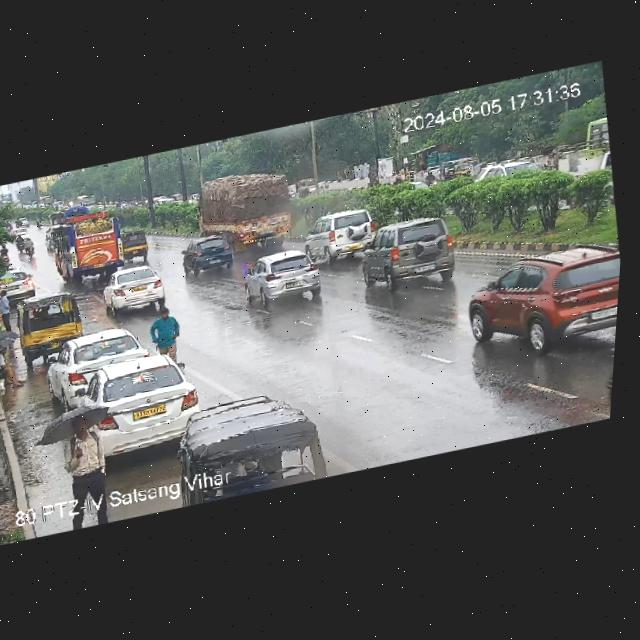bus: (541, 94, 617, 195), (48, 203, 131, 284)
car: (451, 236, 622, 363), (60, 350, 205, 470), (221, 375, 346, 497), (352, 210, 464, 300), (43, 321, 155, 397), (240, 243, 333, 315), (11, 289, 87, 360), (302, 204, 382, 266), (98, 261, 168, 315), (177, 232, 235, 277), (0, 264, 41, 306), (116, 229, 152, 261)
motorcycle: (24, 236, 36, 257), (16, 234, 25, 251)
person: (52, 409, 117, 497), (150, 303, 186, 358), (0, 340, 30, 396), (0, 289, 17, 332)
truck: (192, 157, 314, 271)
